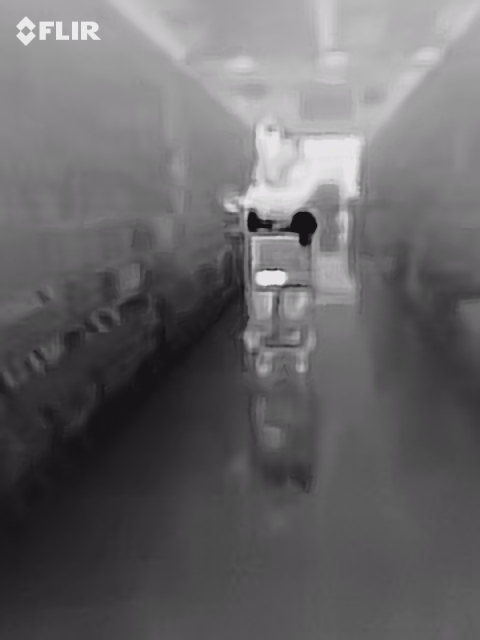head: (255, 124, 302, 187)
